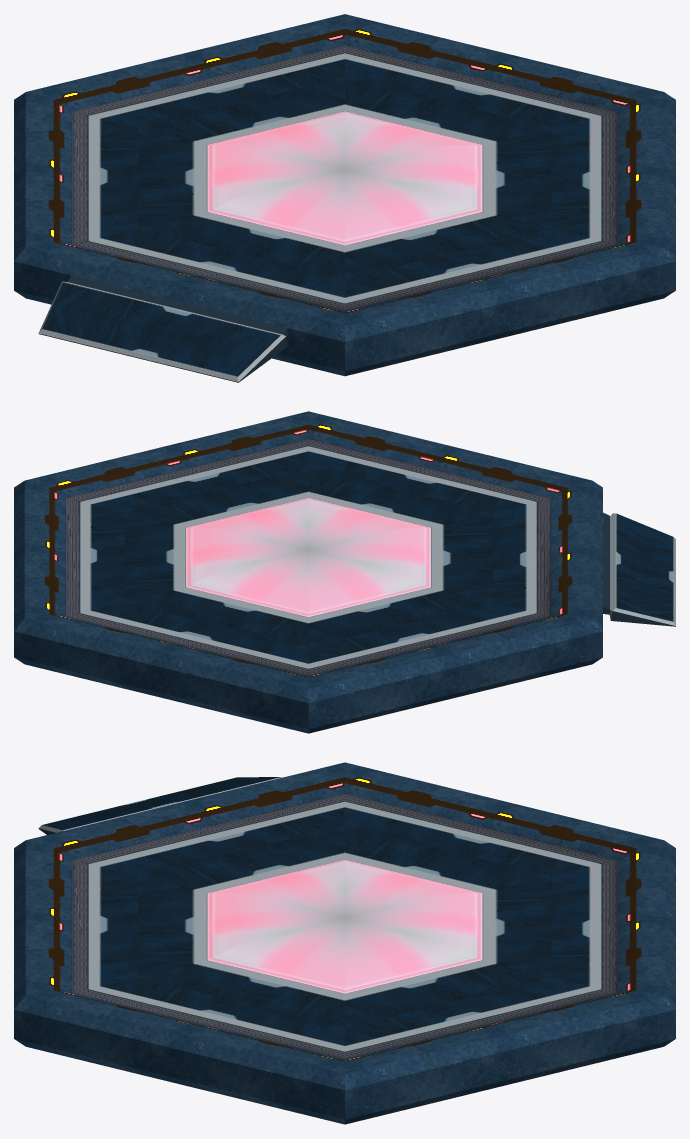
Rendered from entity2926n.gltf.
The picture shows the model from 3 angles, top to bottom: view 1: azimuth 30°, elevation 25°; view 2: azimuth 150°, elevation 25°; view 3: azimuth 270°, elevation 25°; orthographic projection. The views are drawn at different scales.
Visible parts, largest first — view 1: node_Museum_Hex_Floor_Piece_a, node_Museum_Hex_Floor_Piece_a_transparency, node_Museum_Hex_Floor_Ramp_Art; view 2: node_Museum_Hex_Floor_Piece_a, node_Museum_Hex_Floor_Piece_a_transparency, node_Museum_Hex_Floor_Ramp_Art; view 3: node_Museum_Hex_Floor_Piece_a, node_Museum_Hex_Floor_Piece_a_transparency, node_Museum_Hex_Floor_Ramp_Art.
Boxes of the visible parts, x1,y1,x2,y2 form: node_Museum_Hex_Floor_Piece_a: (14,14,675,376); node_Museum_Hex_Floor_Piece_a_transparency: (207,111,482,245); node_Museum_Hex_Floor_Ramp_Art: (38,275,287,382); node_Museum_Hex_Floor_Piece_a: (14,411,602,733); node_Museum_Hex_Floor_Piece_a_transparency: (186,498,430,617); node_Museum_Hex_Floor_Ramp_Art: (603,512,675,626); node_Museum_Hex_Floor_Piece_a: (14,762,675,1124); node_Museum_Hex_Floor_Piece_a_transparency: (207,859,482,993); node_Museum_Hex_Floor_Ramp_Art: (38,777,281,834).
Size of what is drawn, in the model's own units: 14.68 by 1.03 by 12.18.
4 materials, 4 textured.
